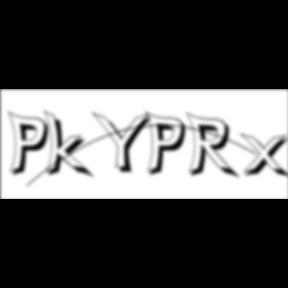P: (8, 110, 55, 180), (146, 110, 192, 180)
R: (186, 112, 244, 182)
Y: (92, 110, 158, 176)
k: (44, 108, 96, 181)
